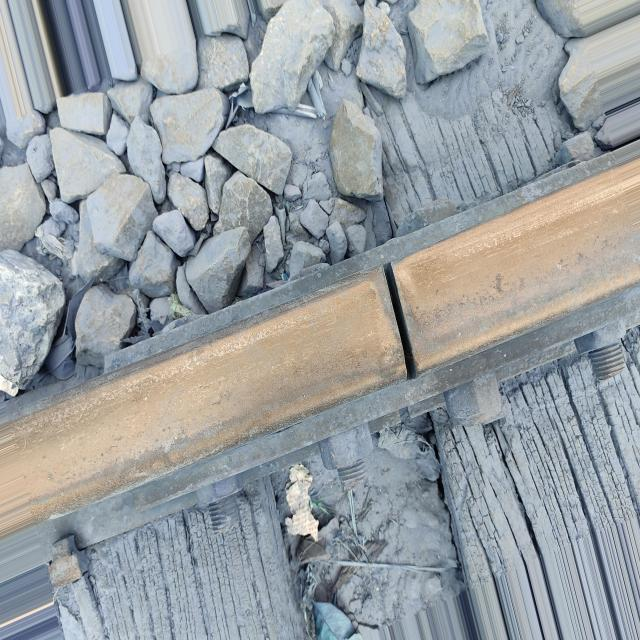crack: (351, 237, 469, 418)
